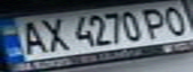0: (118, 8, 145, 43)
2: (87, 11, 112, 47)
4: (69, 12, 93, 48)
7: (103, 9, 127, 45)
A: (12, 18, 48, 55)
O: (157, 3, 193, 36)
P: (136, 6, 175, 39)
X: (33, 16, 69, 53)
